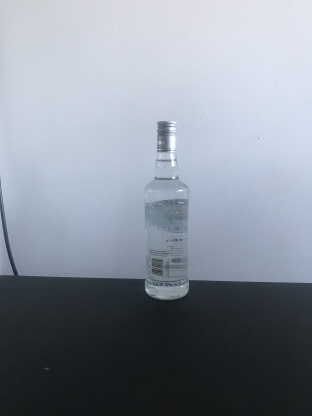nakretka: (155, 117, 178, 154)
